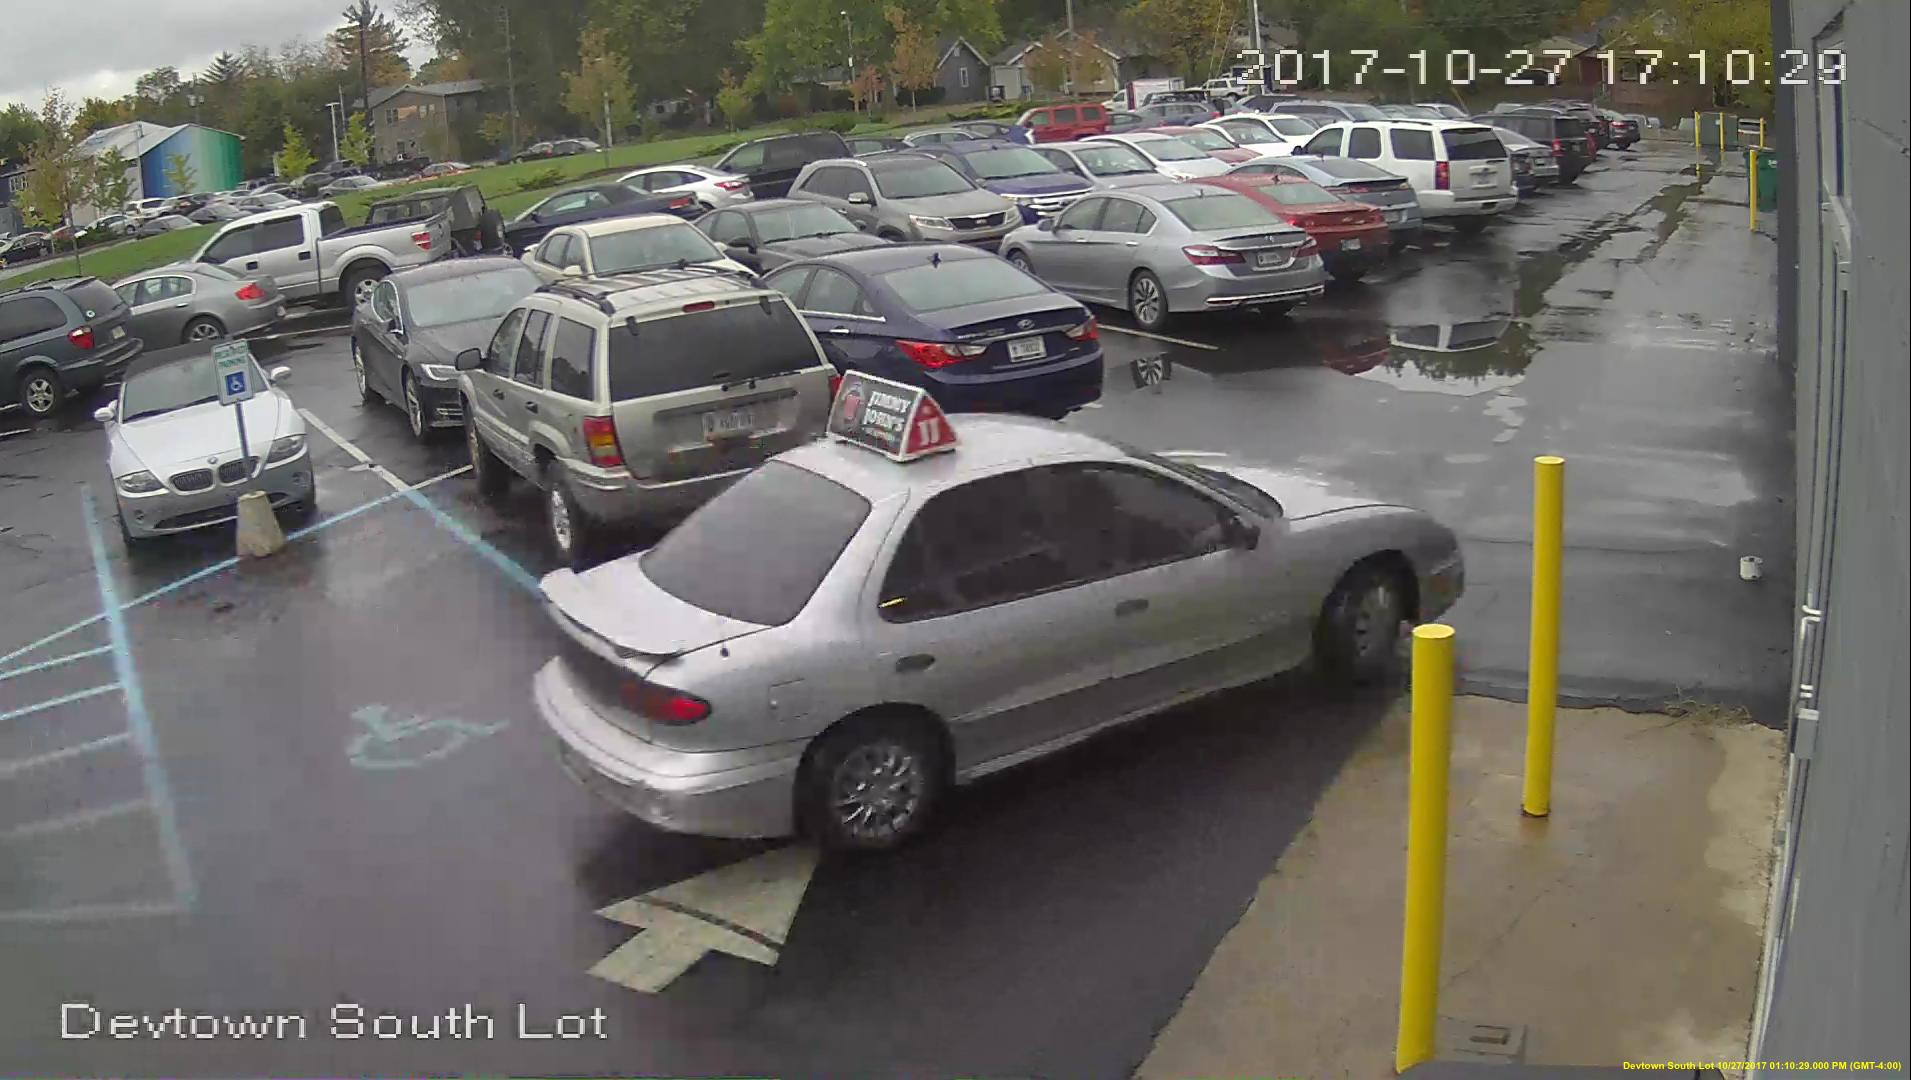jimmy_johns: (826, 367, 959, 461)
